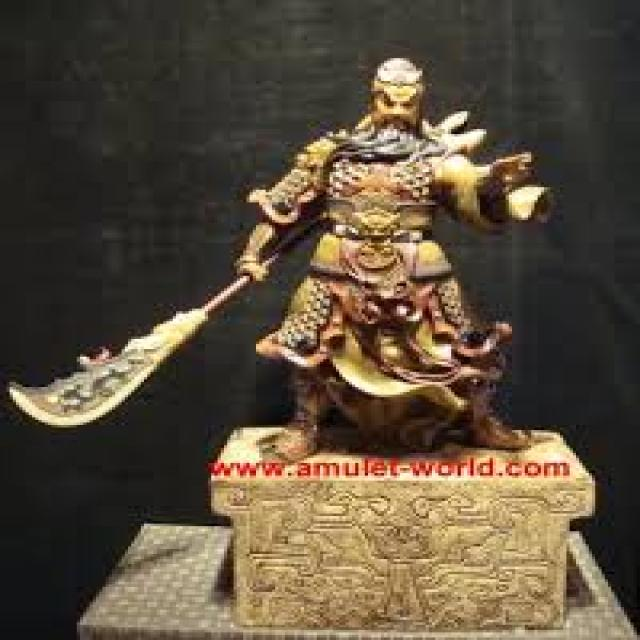Guan Yu: (285, 52, 498, 326)
